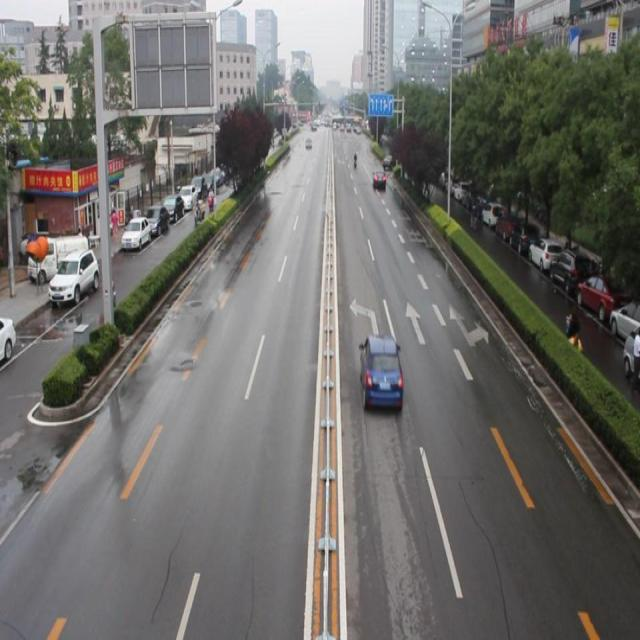car: (359, 333, 404, 410), (372, 168, 385, 188)
